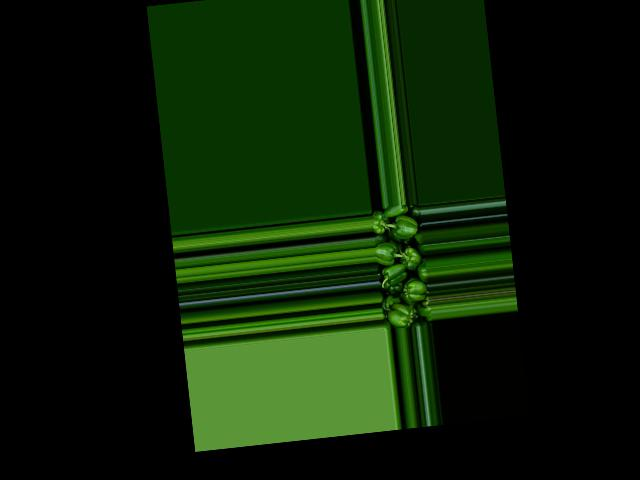bell_pepper: (372, 204, 432, 330)
